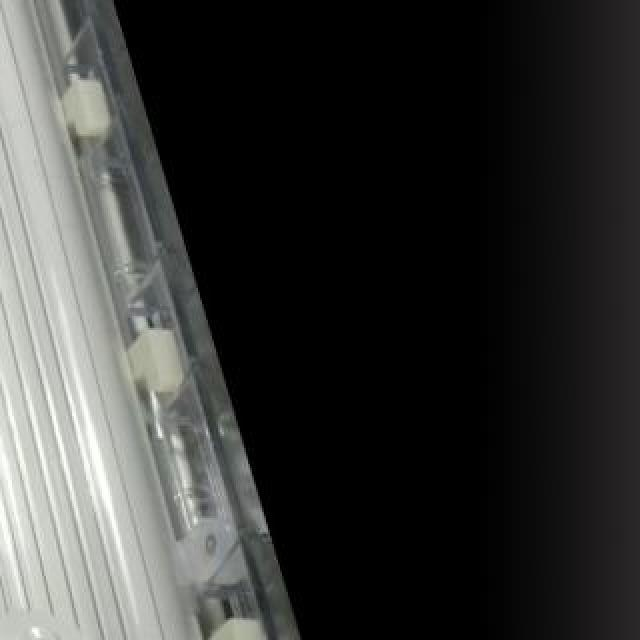fluorescent tube: (0, 0, 270, 640)
